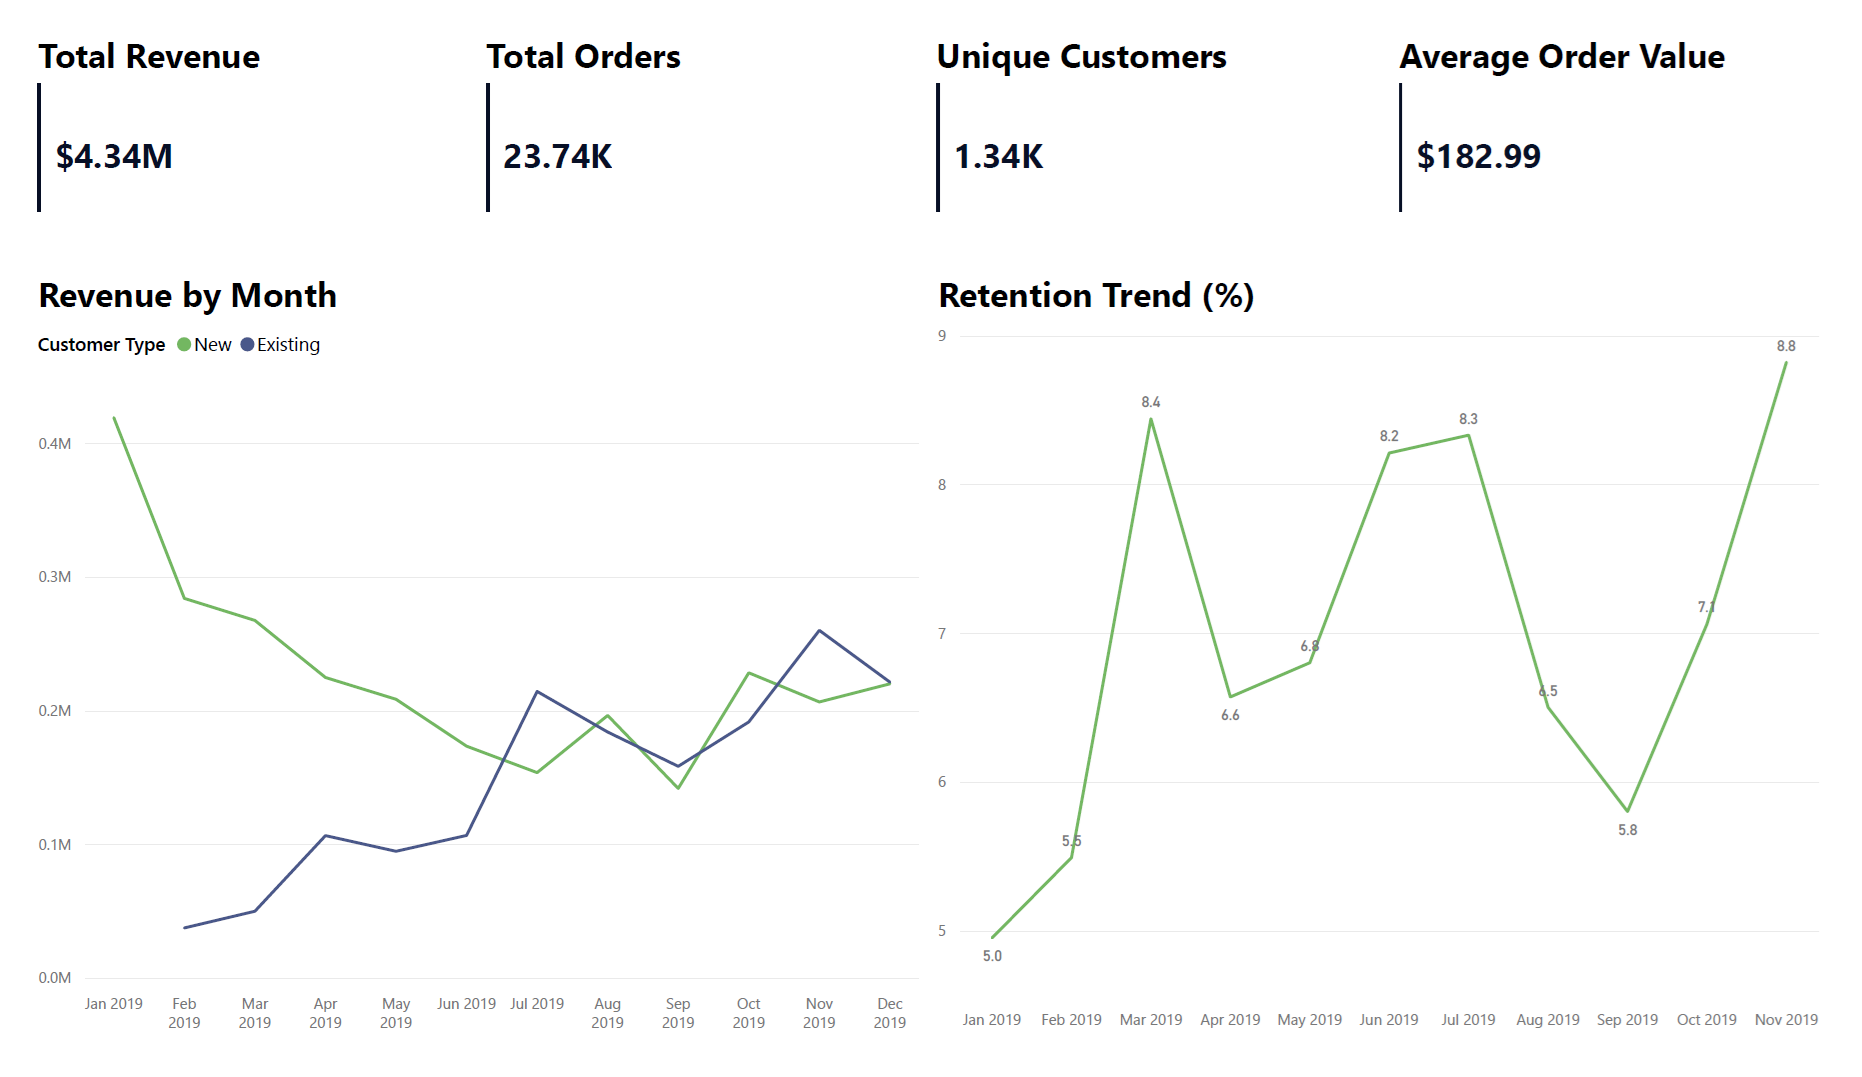

The dashboard page shown, as its layout file describes it:
{"tool":"powerbi","page":{"name":"Executive Page","canvas":[1280,720],"ordinal":0},"visuals":[{"type":"cardVisual","title":"Total Revenue","fields":{"Data":["Sum(mart vw_exec_kpis.total_revenue)"]},"box":[0,0,312.2,133.1],"z":0},{"type":"cardVisual","title":"Unique Customers","fields":{"Data":["Sum(mart vw_exec_kpis.unique_customers)"]},"box":[639.4,0,328.4,133.1],"z":1000},{"type":"cardVisual","title":"Average Order Value","fields":{"Data":["Sum(mart vw_exec_kpis.avg_order_value)"]},"box":[967.8,0,312.2,133.1],"z":2000},{"type":"lineChart","title":"Revenue by Month ","fields":{"Y":["Sum(mart vw_monthly_revenue_new_vs_existing.revenue)"],"Series":["mart vw_monthly_revenue_new_vs_existing.customer_type"],"Category":["mart vw_monthly_revenue_new_vs_existing.month_label_en"]},"box":[0,170.4,639.4,549.8],"z":3000},{"type":"lineChart","title":"Retention Trend (%)","fields":{"Y":["Sum(mart vw_month1_retention_trend.retention_pct)"],"Category":["mart vw_month1_retention_trend.cohort_month_label"]},"box":[640,170,640,550],"z":4000},{"type":"cardVisual","title":"Total Orders","fields":{"Data":["Sum(mart vw_exec_kpis.total_orders)"]},"box":[319.3,0,328.6,133.1],"z":5000}]}

Visuals, with their boxes in screenshot pixels (x1, y1, x2, y2), scaled from the page's 1280x720 canvas onto the 1862x1077 screenshot:
"Total Revenue" cardVisual: box(0, 0, 454, 199)
"Unique Customers" cardVisual: box(930, 0, 1408, 199)
"Average Order Value" cardVisual: box(1408, 0, 1861, 199)
"Revenue by Month " lineChart: box(0, 255, 930, 1076)
"Retention Trend (%)" lineChart: box(931, 254, 1861, 1076)
"Total Orders" cardVisual: box(464, 0, 942, 199)
